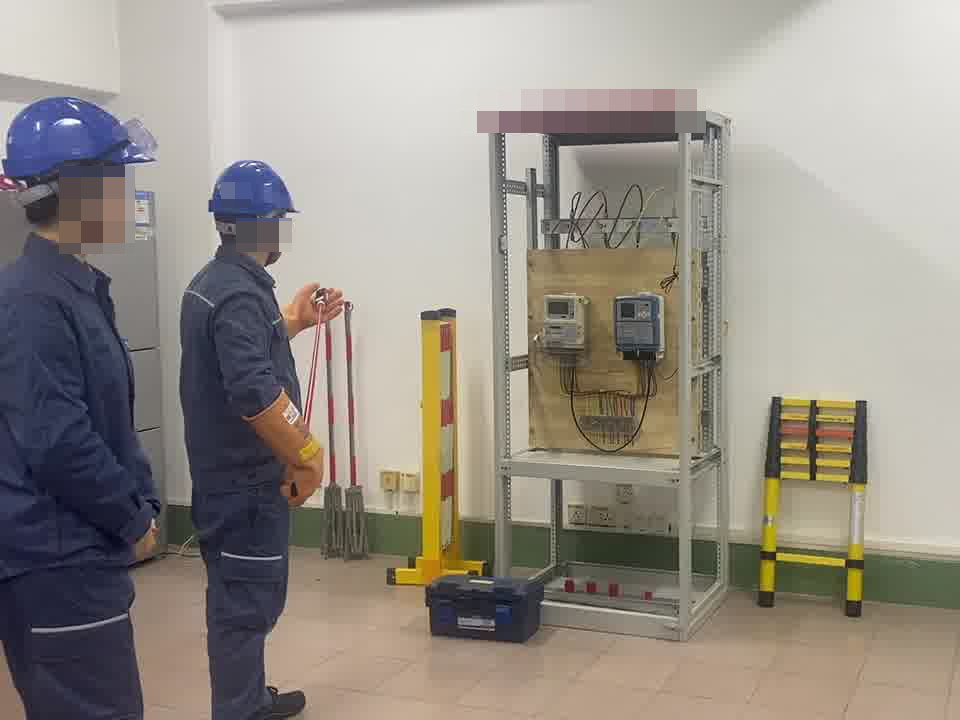downsuit: (1, 566, 151, 720), (195, 495, 297, 720)
halt: (1, 96, 157, 259), (207, 158, 297, 259)
hand: (126, 523, 165, 561)
inear: (42, 163, 106, 227), (257, 208, 284, 251)
longglove: (241, 386, 327, 508), (277, 281, 346, 341)
person: (1, 85, 162, 720), (177, 154, 347, 720)
testrod: (302, 285, 336, 431)
upsuit: (1, 233, 155, 574), (179, 251, 308, 495)
